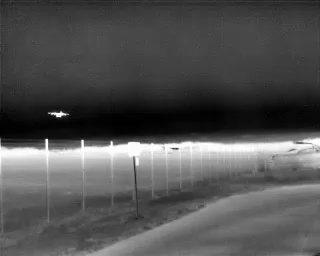AIRPLANE: (47, 108, 71, 120)
